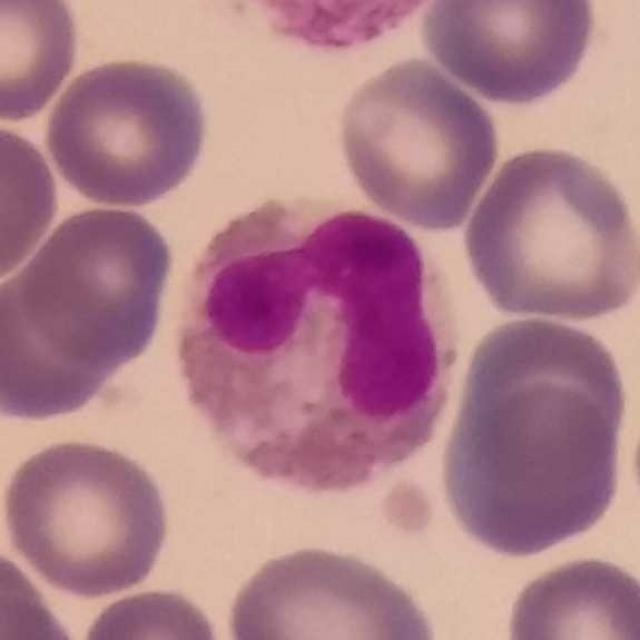Eosinophil: (174, 192, 456, 493), (233, 0, 434, 55)
Platelets: (380, 477, 437, 537)
RBC: (435, 381, 630, 561), (458, 140, 639, 326), (446, 312, 634, 476), (332, 54, 503, 232), (0, 433, 175, 601), (15, 202, 178, 370), (41, 52, 214, 210), (218, 540, 448, 640), (0, 265, 125, 425), (416, 0, 602, 107), (501, 551, 640, 640), (0, 116, 62, 289), (0, 0, 83, 124), (75, 583, 228, 640), (0, 552, 85, 640)
